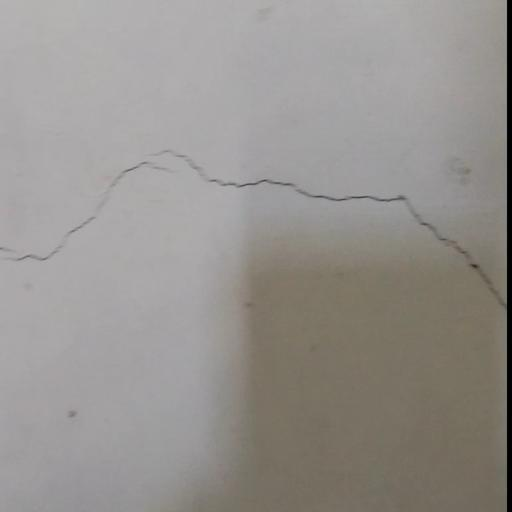minor_crack: (0, 134, 512, 322)
